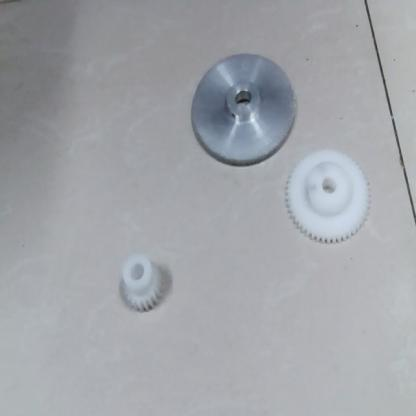FOD: (187, 46, 299, 172), (285, 149, 373, 248), (117, 252, 166, 317)
